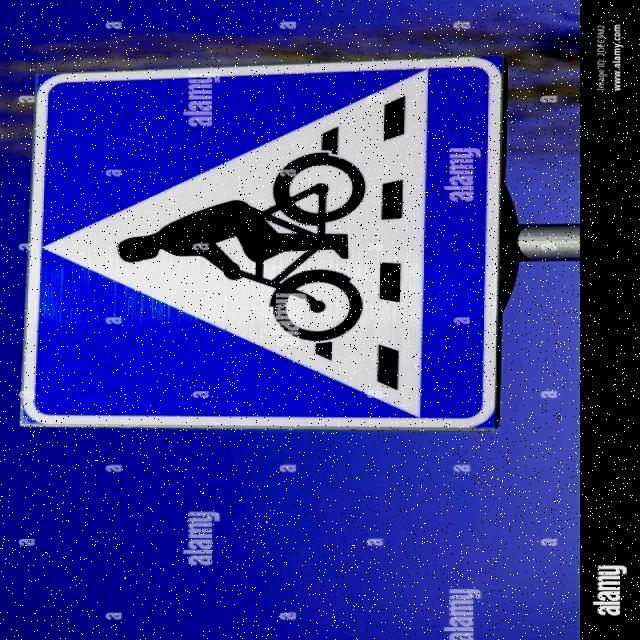Traffic sign: (12, 46, 512, 438)
